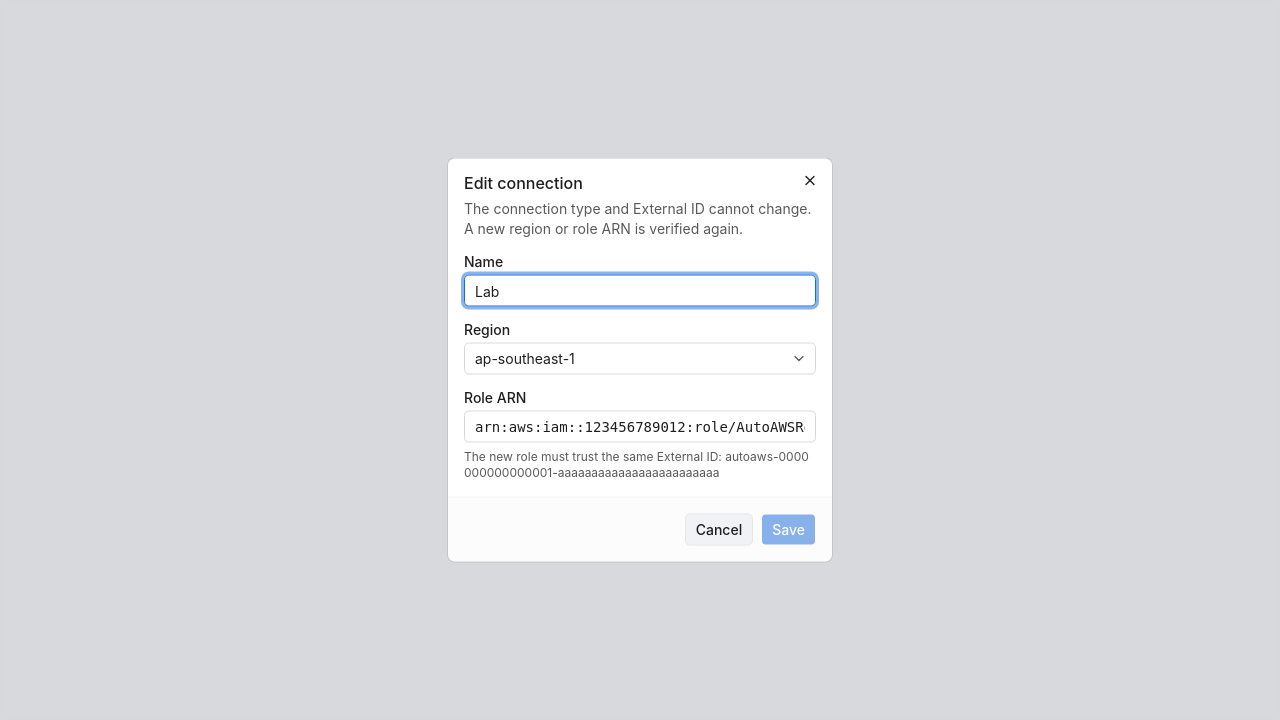
EditConnectionDialog › refuses an invalid role ARN or an empty name
Clear the field labelled "Role ARN" at (640, 426), box [464, 410, 816, 442]
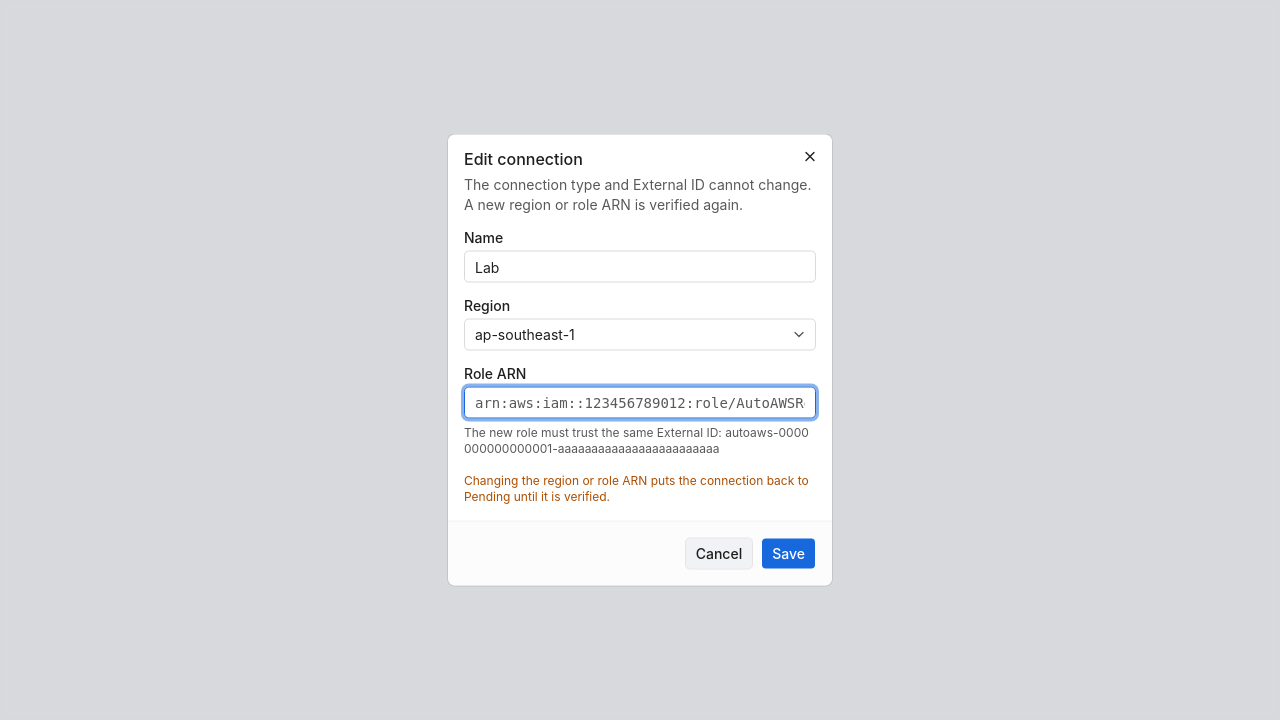
Type "nope" into the field labelled "Role ARN" at (640, 402), box [464, 386, 816, 418]
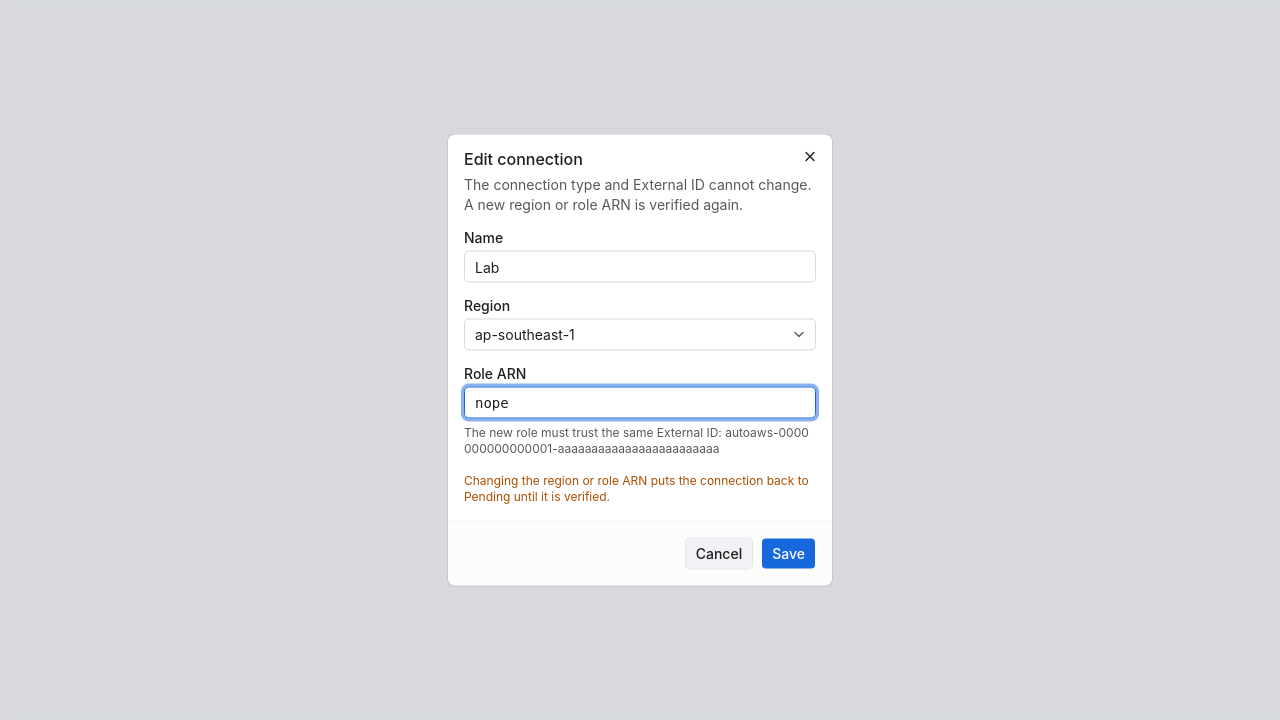
Clear the field labelled "Name" at (640, 266), box [464, 250, 816, 282]
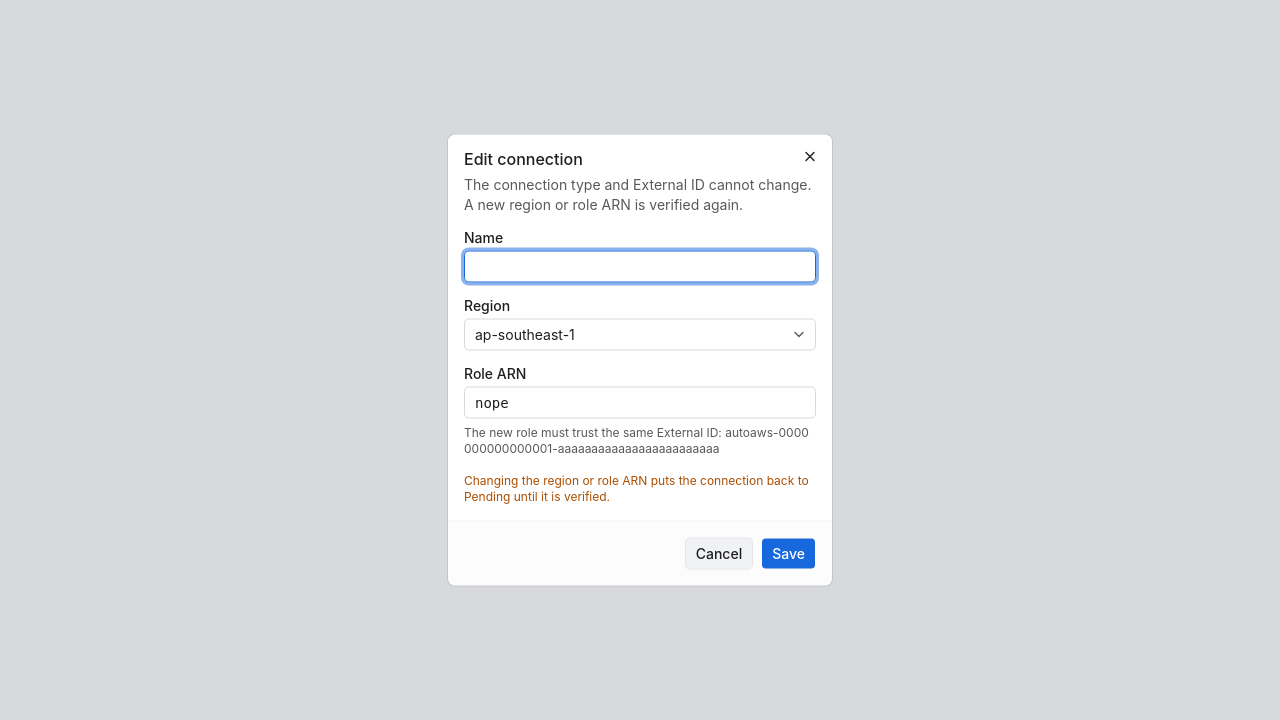
Click the button "Save" at (789, 554), box [761, 538, 816, 570]
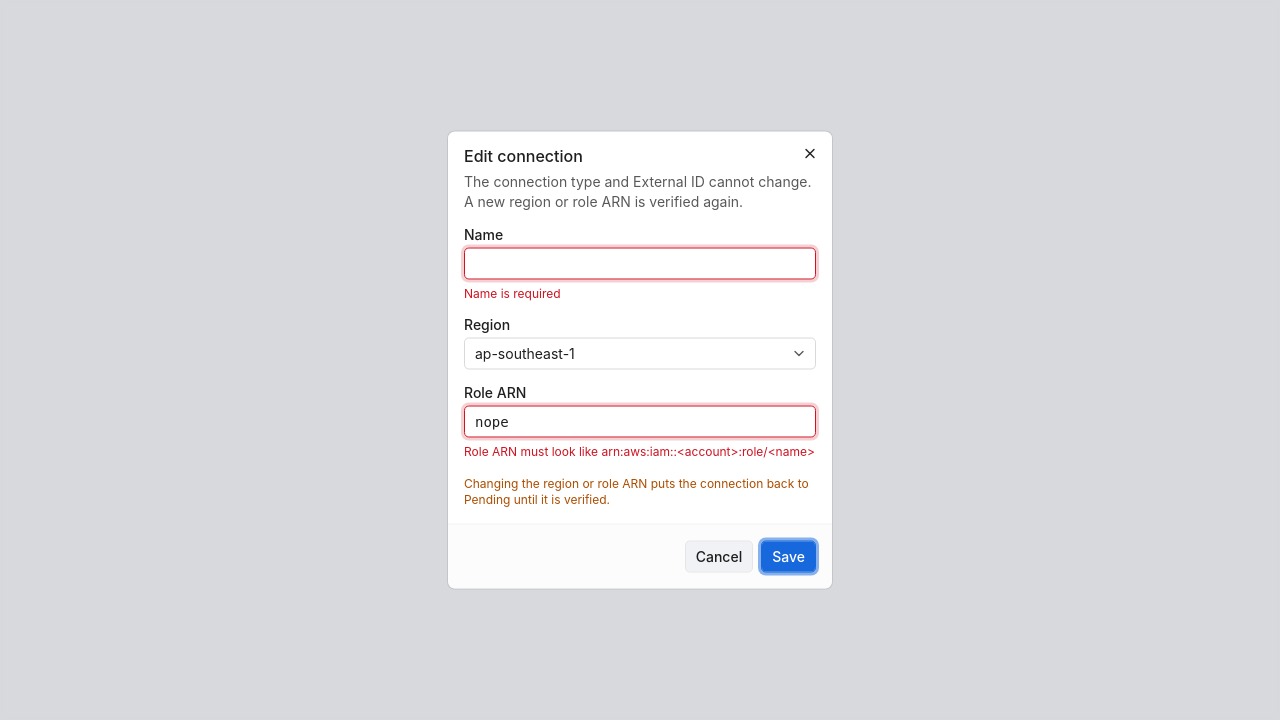
Expected: the text "Role ARN must look like arn:aws:iam::<account>:role/<name>" is shown, [464, 444, 816, 460]
Expected: the text "Name is required" is shown, [464, 286, 561, 300]
